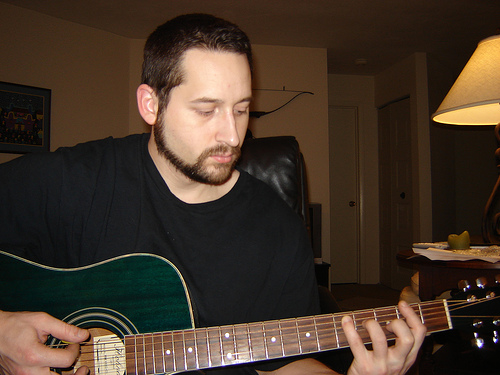guitar: (1, 249, 499, 375)
